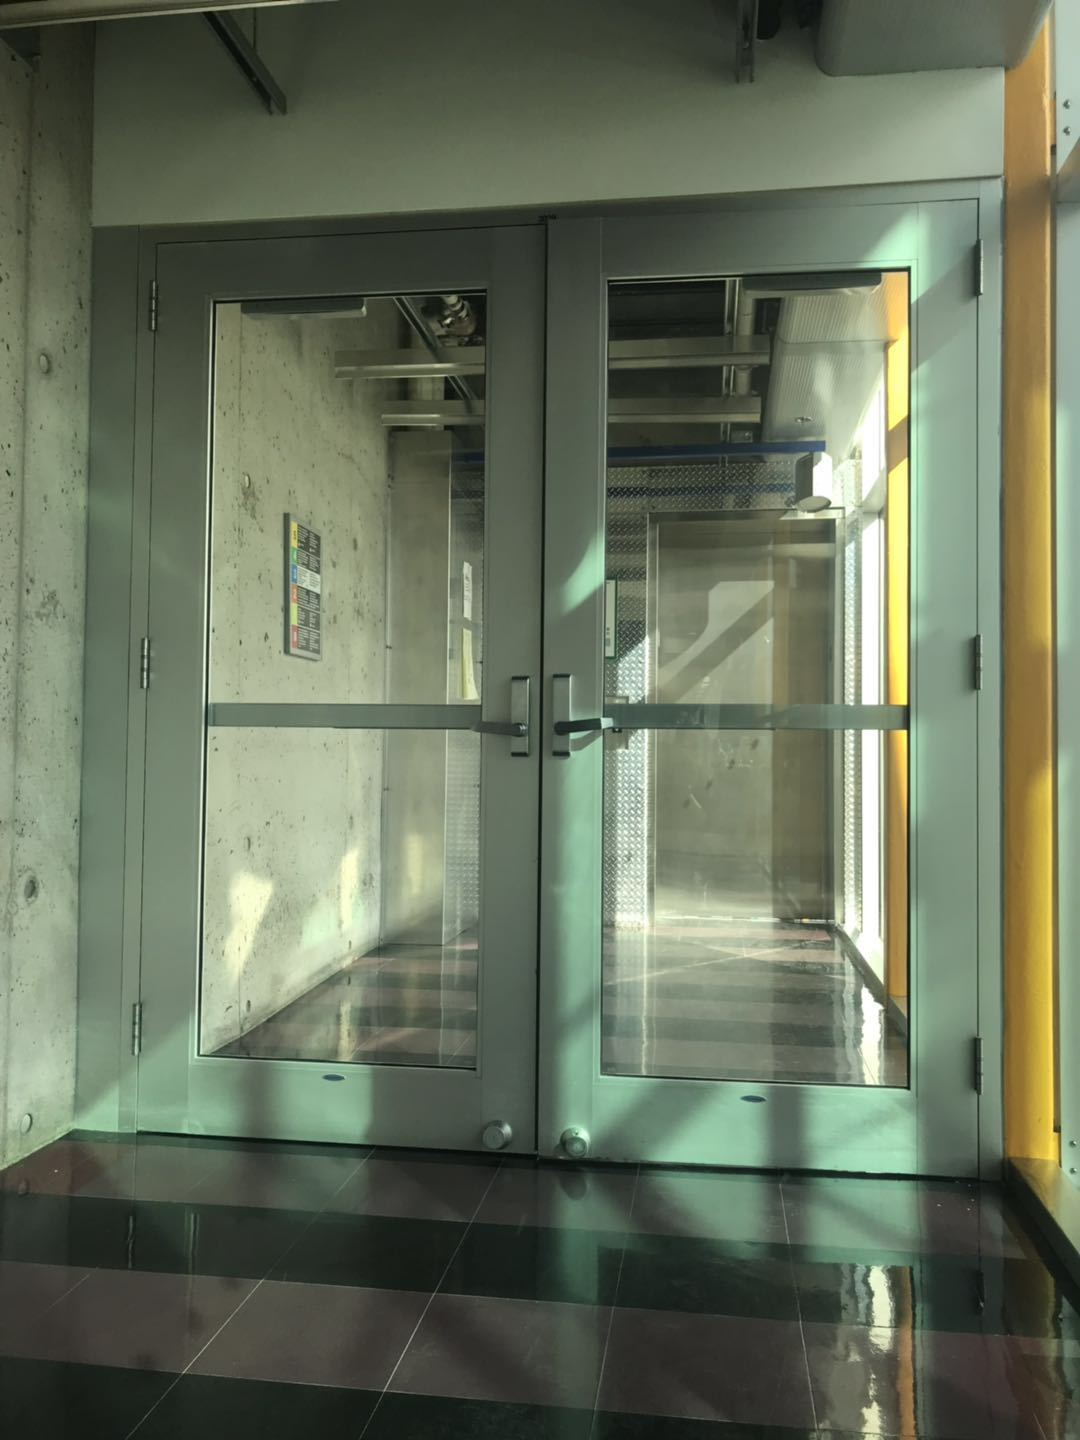door: (121, 186, 982, 1177)
sign: (286, 510, 330, 663)
